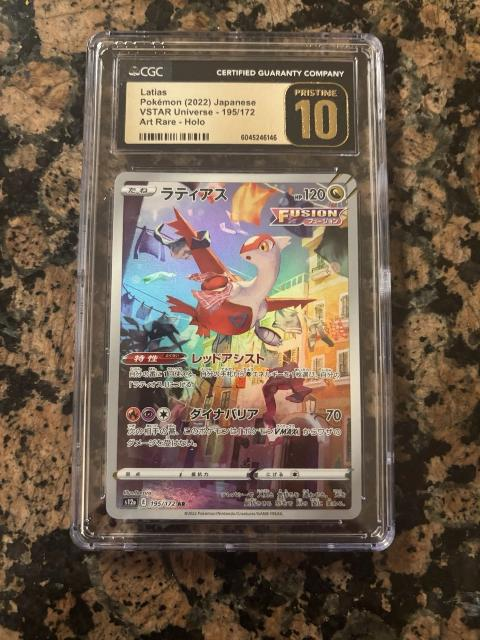Card: (103, 168, 366, 524)
Name: (157, 183, 231, 205)
